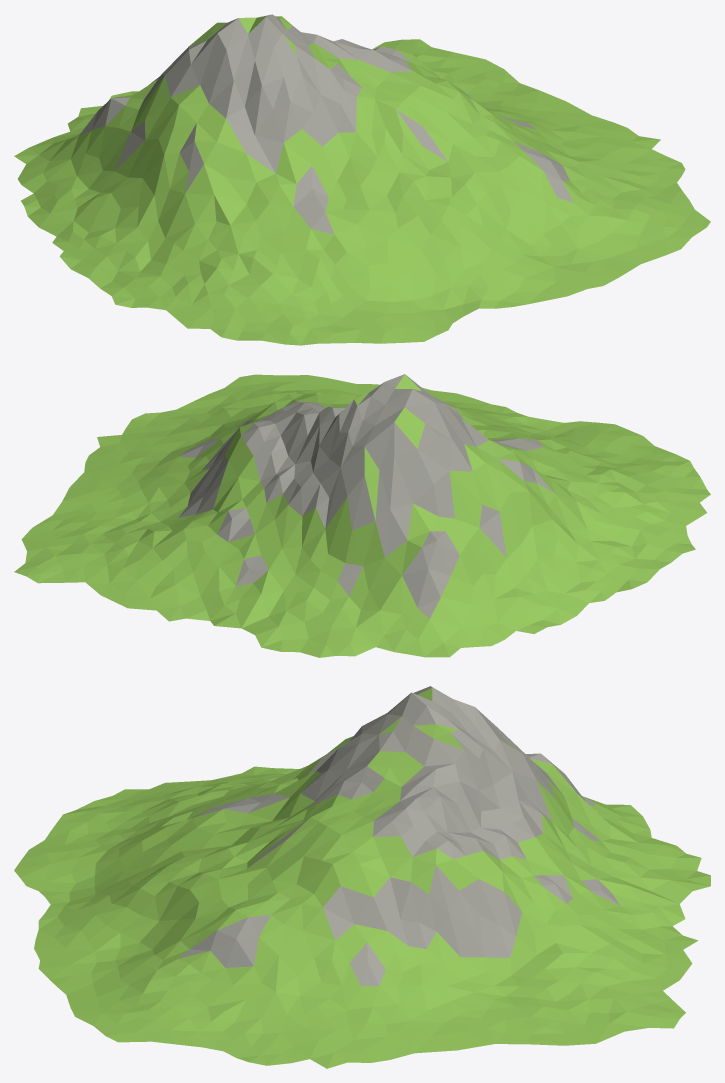
The model's file is mountain_l_a_29.glb.
The picture shows the model from 3 angles, top to bottom: view 1: azimuth 30°, elevation 25°; view 2: azimuth 150°, elevation 25°; view 3: azimuth 270°, elevation 25°; orthographic projection. The views are drawn at different scales.
Visible parts, largest first — view 1: CPT_Mountain_L_a_29; view 2: CPT_Mountain_L_a_29; view 3: CPT_Mountain_L_a_29.
Boxes of the visible parts, x1,y1,x2,y2 form: CPT_Mountain_L_a_29: (14,14,710,345); CPT_Mountain_L_a_29: (14,374,710,657); CPT_Mountain_L_a_29: (14,686,710,1068).
Bounding box in the file's own units: 90.23 × 27.09 × 88.27.
Materials: 1 (1 with a texture image).
